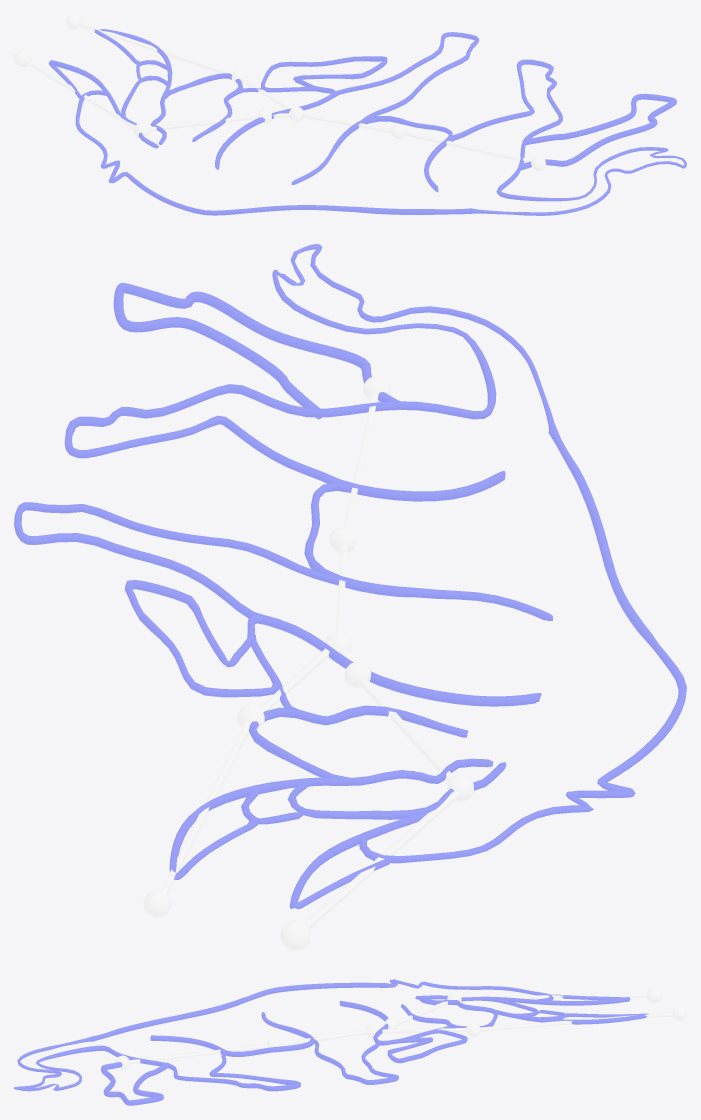
The model's file is taurus.glb.
3 renders of one model, top to bottom at view 1: azimuth 30°, elevation 25°; view 2: azimuth 150°, elevation 25°; view 3: azimuth 270°, elevation 25°, orthographic. The views are drawn at different scales.
Parts seen in each view (by area): view 1: Retopo_NurbsPath.020, Retopo_Sphere.007; view 2: Retopo_NurbsPath.020, Retopo_Sphere.007; view 3: Retopo_NurbsPath.020, Retopo_Sphere.007.
Boxes of the visible parts, bbox=[...] form: Retopo_NurbsPath.020: bbox=[48, 29, 686, 215]; Retopo_Sphere.007: bbox=[14, 14, 546, 171]; Retopo_NurbsPath.020: bbox=[14, 244, 686, 908]; Retopo_Sphere.007: bbox=[143, 376, 473, 950]; Retopo_NurbsPath.020: bbox=[14, 979, 648, 1105]; Retopo_Sphere.007: bbox=[115, 987, 686, 1069].
Size of the model in its own units: 3.59 by 0.6595 by 5.15.
